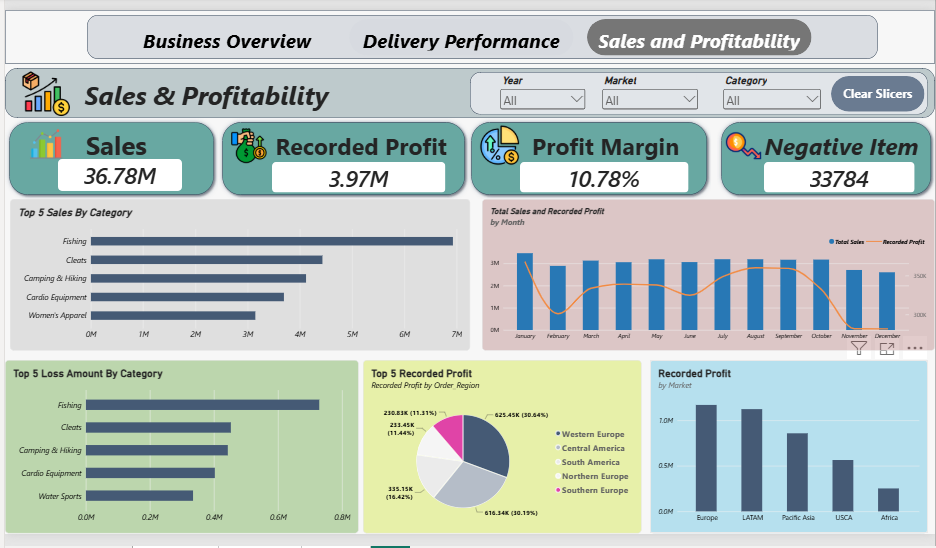

This screenshot's page, from the dashboard's own definition file:
{"tool":"powerbi","page":{"name":"Sales","canvas":[1920,1080],"ordinal":2},"visuals":[{"type":"group","id":"g1","title":"Group 11","box":[0,0,1920,111.5],"z":0},{"type":"shape","box":[0,0,1920,110.9],"z":0,"group":"g1"},{"type":"group","id":"g2","title":"Group 1","box":[0,222.5,440,167.5],"z":0,"group":"g7"},{"type":"shape","box":[0,222.5,440,167.5],"z":0,"group":"g2"},{"type":"group","id":"g3","title":"Group 1","box":[440,222.5,518.6,167.8],"z":0,"group":"g10"},{"type":"shape","box":[440,222.5,518.6,167.8],"z":0,"group":"g3"},{"type":"group","id":"g4","title":"Group 1","box":[955,222.5,505,167.5],"z":0,"group":"g11"},{"type":"shape","box":[955,222.5,504.4,167.5],"z":0,"group":"g4"},{"type":"group","id":"g5","title":"Group 1","box":[1470,222.5,450.9,167.5],"z":0,"group":"g12"},{"type":"shape","box":[1470,222.5,450.9,167.5],"z":0,"group":"g5"},{"type":"shape","box":[168.8,10.1,1632.8,90.7],"z":1000,"group":"g15"},{"type":"group","id":"g6","title":"Group 12","box":[0,120,1920,103.3],"z":1000},{"type":"image","box":[0,238.7,170,72.5],"z":1000,"group":"g7"},{"type":"cardVisual","fields":{"Data":["SupplyChain.Total Sales"]},"box":[108.9,307.8,256.3,66.6],"z":1000,"group":"g2"},{"type":"cardVisual","fields":{"Data":["SupplyChain.Profit Margin %"]},"box":[1063.8,312.6,348.9,63.8],"z":1000,"group":"g4"},{"type":"cardVisual","fields":{"Data":["SupplyChain.Negative Profit Items"]},"box":[1567.2,312.6,311.9,63.8],"z":1000,"group":"g5"},{"type":"cardVisual","fields":{"Data":["SupplyChain.Recorded Profit"]},"box":[551.8,312.7,358.7,63.9],"z":1000,"group":"g3"},{"type":"actionButton","box":[226.8,17.7,463.6,75.6],"z":2000,"group":"g15"},{"type":"group","id":"g7","title":"Group 3","box":[0,222.5,440,167.5],"z":2000},{"type":"textbox","box":[106.9,240.3,244.3,80.9],"z":2000,"group":"g2"},{"type":"textbox","box":[1046.7,246.5,390.6,78.1],"z":2000,"group":"g4"},{"type":"textbox","box":[1552,246.5,349.1,78.1],"z":2000,"group":"g5"},{"type":"textbox","box":[534.3,246.6,401.5,78.2],"z":2000,"group":"g3"},{"type":"group","id":"g8","title":"Group 4","box":[440,222.5,520,167.5],"z":3000},{"type":"actionButton","box":[710.5,17.7,463.6,75.6],"z":4000,"group":"g15"},{"type":"shape","box":[0,120,1920,103.3],"z":4000,"group":"g13"},{"type":"group","id":"g9","title":"Group 4","box":[1470,222.5,450,167.5],"z":4000},{"type":"actionButton","box":[1201.9,17.7,463.6,75.6],"z":5000,"group":"g15"},{"type":"textbox","box":[108.3,137.6,851.7,85.7],"z":5000,"group":"g13"},{"type":"barChart","title":"Top 5 Sales By Category","fields":{"Category":["SupplyChain.Category_Name"],"Y":["SupplyChain.Total Sales"]},"box":[10,390,950,312.5],"z":5000},{"type":"group","id":"g10","title":"Group 3","box":[440,222.5,518.6,167.8],"z":6000,"group":"g8"},{"type":"group","id":"g11","title":"Group 3","box":[955,222.5,505,167.5],"z":6000,"group":"g14"},{"type":"group","id":"g12","title":"Group 3","box":[1470,222.5,450.9,167.5],"z":6000,"group":"g9"},{"type":"clusteredColumnChart","fields":{"Y":["SupplyChain.Recorded Profit"],"Category":["SupplyChain.Market"]},"box":[1332.5,722.5,572.5,357.5],"z":6000},{"type":"image","box":[937.5,236.2,167.5,82.5],"z":6006,"group":"g14"},{"type":"image","box":[1478.6,243.6,92.3,73.1],"z":6006,"group":"g9"},{"type":"image","box":[449.9,243.7,106.2,73.2],"z":6006,"group":"g8"},{"type":"image","box":[0,125,170,97.5],"z":6010,"group":"g13"},{"type":"lineClusteredColumnComboChart","fields":{"Category":["SupplyChain.Months.Variation.Date Hierarchy.Month"],"Y":["SupplyChain.Total Sales"],"Y2":["SupplyChain.Recorded Profit"]},"box":[985,390,935,312.5],"z":7000},{"type":"clusteredBarChart","title":"Top 5 Loss Amount By Category","fields":{"Category":["SupplyChain.Category_Name"],"Y":["SupplyChain.Total Loss Amount"]},"box":[0,722.5,730,357.5],"z":8000},{"type":"pieChart","title":"Top 5 Recorded Profit","fields":{"Category":["SupplyChain.Order_Region"],"Y":["SupplyChain.Recorded Profit"]},"box":[740,722.5,575,357.5],"z":9000},{"type":"group","id":"g13","title":"Group 8","box":[0,120,1920,103.3],"z":10000,"group":"g16"},{"type":"group","id":"g14","title":"Group 5","box":[937.5,222.5,522.5,167.5],"z":10000},{"type":"group","id":"g15","title":"Group 10","box":[168.8,10.1,1632.8,90.7],"z":11000,"group":"g1"},{"type":"group","id":"g16","title":"Group 2","box":[0,120,1920,103.3],"z":12000,"group":"g6"},{"type":"slicer","fields":{"Values":["SupplyChain.Months.Variation.Date Hierarchy.Year","SupplyChain.Months.Variation.Date Hierarchy.Month"]},"box":[1016.8,132,185.4,79.8],"z":13000,"group":"g16"},{"type":"actionButton","box":[1704.7,136,193.4,73.8],"z":13000,"group":"g6"},{"type":"shape","box":[961,128.7,945,87.7],"z":13001,"group":"g13"},{"type":"slicer","fields":{"Values":["SupplyChain.Market"]},"box":[1228.2,132,207.4,79.8],"z":14000,"group":"g16"},{"type":"slicer","fields":{"Values":["SupplyChain.Category_Name"]},"box":[1477.4,132,211.3,79.8],"z":15000,"group":"g16"}]}

Visuals, with their boxes on the page's 1920x1080 design canvas (x1, y1, x2, y2). These are canvas units, not pixel positions in the 936x548 screenshot, which may show the page scaled, cropped or inside an application window:
"Group 11" group: 0 0 1920 112
shape: 0 0 1920 111
"Group 1" group: 0 222 440 390
shape: 0 222 440 390
"Group 1" group: 440 222 959 390
shape: 440 222 959 390
"Group 1" group: 955 222 1460 390
shape: 955 222 1459 390
"Group 1" group: 1470 222 1921 390
shape: 1470 222 1921 390
shape: 169 10 1802 101
"Group 12" group: 0 120 1920 223
image: 0 239 170 311
cardVisual - SupplyChain.Total Sales: 109 308 365 374
cardVisual - SupplyChain.Profit Margin %: 1064 313 1413 376
cardVisual - SupplyChain.Negative Profit Items: 1567 313 1879 376
cardVisual - SupplyChain.Recorded Profit: 552 313 910 377
actionButton: 227 18 690 93
"Group 3" group: 0 222 440 390
textbox: 107 240 351 321
textbox: 1047 246 1437 325
textbox: 1552 246 1901 325
textbox: 534 247 936 325
"Group 4" group: 440 222 960 390
actionButton: 710 18 1174 93
shape: 0 120 1920 223
"Group 4" group: 1470 222 1920 390
actionButton: 1202 18 1666 93
textbox: 108 138 960 223
"Top 5 Sales By Category" barChart: 10 390 960 702
"Group 3" group: 440 222 959 390
"Group 3" group: 955 222 1460 390
"Group 3" group: 1470 222 1921 390
clusteredColumnChart - SupplyChain.Recorded Profit x SupplyChain.Market: 1332 722 1905 1080
image: 938 236 1105 319
image: 1479 244 1571 317
image: 450 244 556 317
image: 0 125 170 222
lineClusteredColumnComboChart - SupplyChain.Months.Variation.Date Hierarchy.Month x SupplyChain.Total Sales: 985 390 1920 702
"Top 5 Loss Amount By Category" clusteredBarChart: 0 722 730 1080
"Top 5 Recorded Profit" pieChart: 740 722 1315 1080
"Group 8" group: 0 120 1920 223
"Group 5" group: 938 222 1460 390
"Group 10" group: 169 10 1802 101
"Group 2" group: 0 120 1920 223
slicer - SupplyChain.Months.Variation.Date Hierarchy.Year x SupplyChain.Months.Variation.Date Hierarchy.Month: 1017 132 1202 212
actionButton: 1705 136 1898 210
shape: 961 129 1906 216
slicer - SupplyChain.Market: 1228 132 1436 212
slicer - SupplyChain.Category_Name: 1477 132 1689 212
